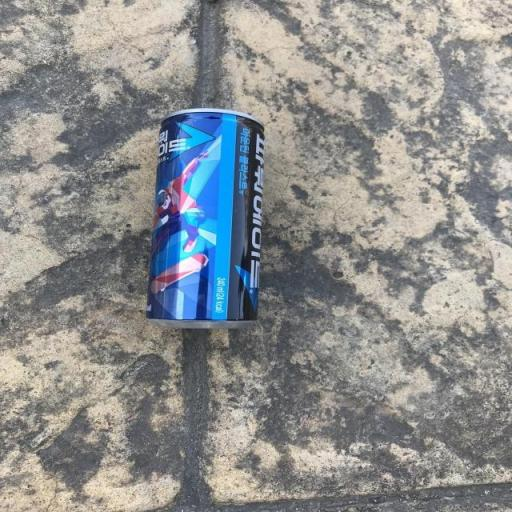metal: (145, 84, 312, 354)
